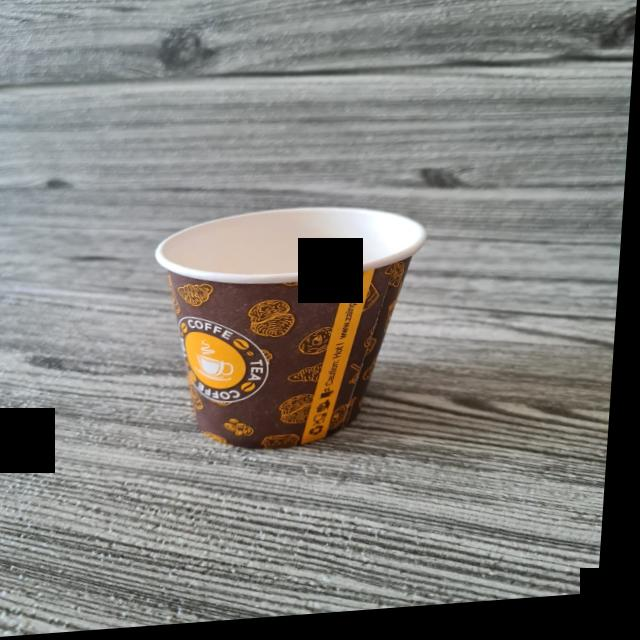cups: (147, 211, 428, 455)
